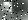person: (4, 4, 10, 14), (8, 3, 13, 13)
